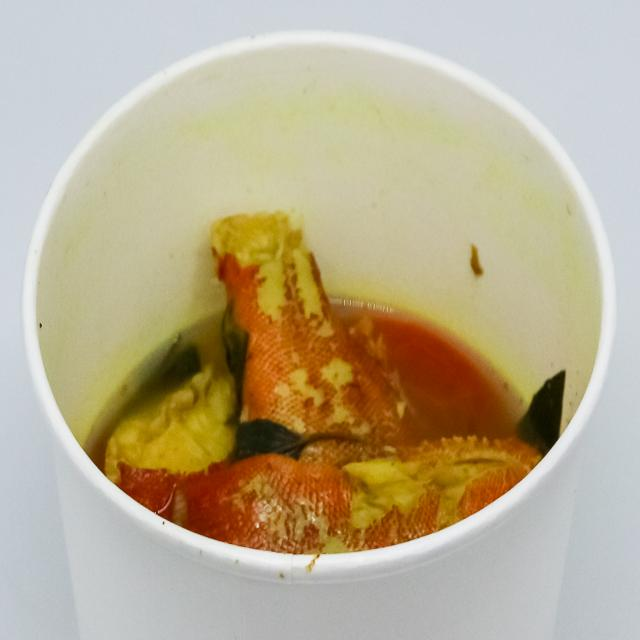Gulai-Ikan-Mas: (88, 199, 574, 566)
